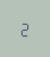two: (19, 19, 28, 37)
